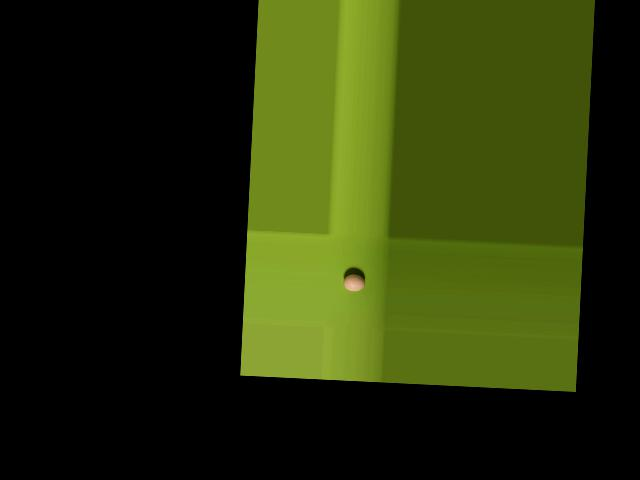egg: (343, 273, 366, 291)
